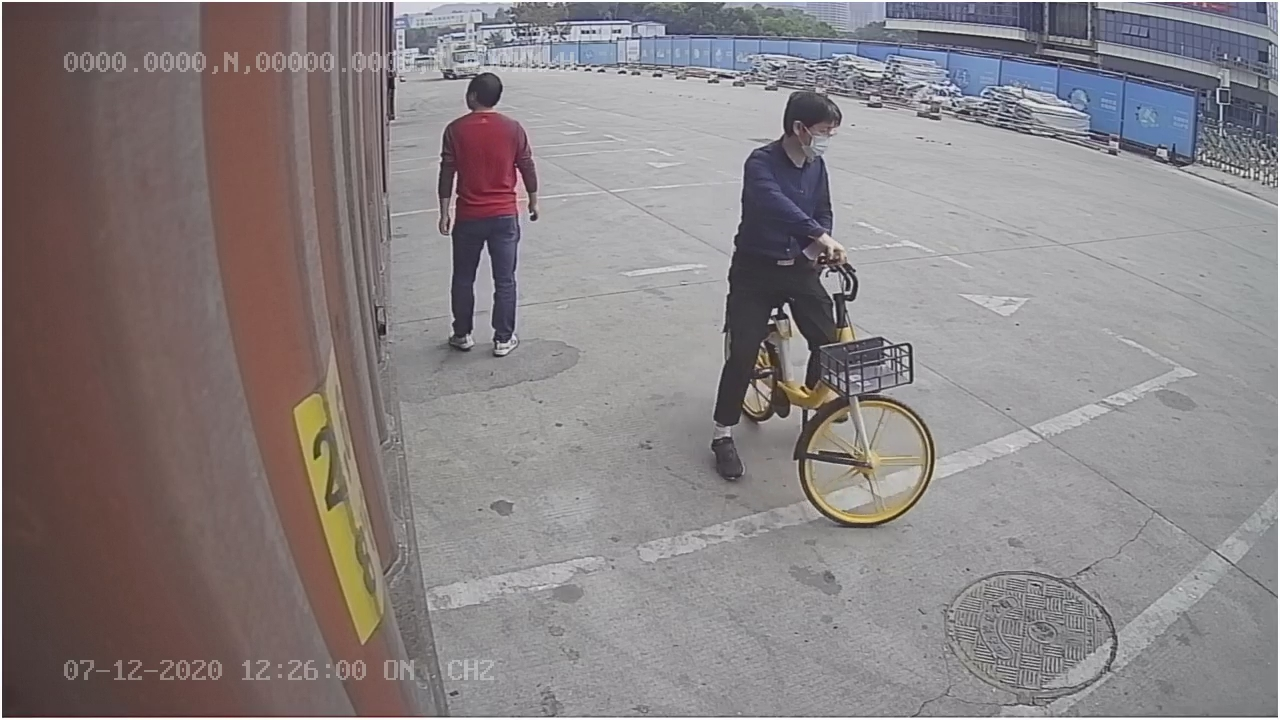person: (433, 71, 542, 360)
